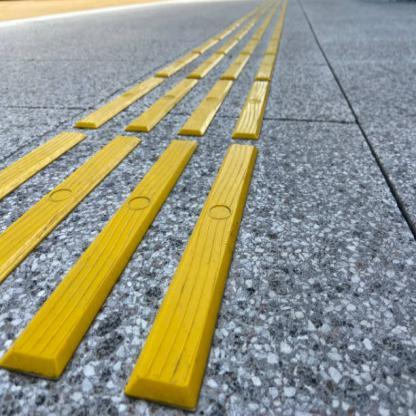podotacti: (0, 0, 290, 413)
